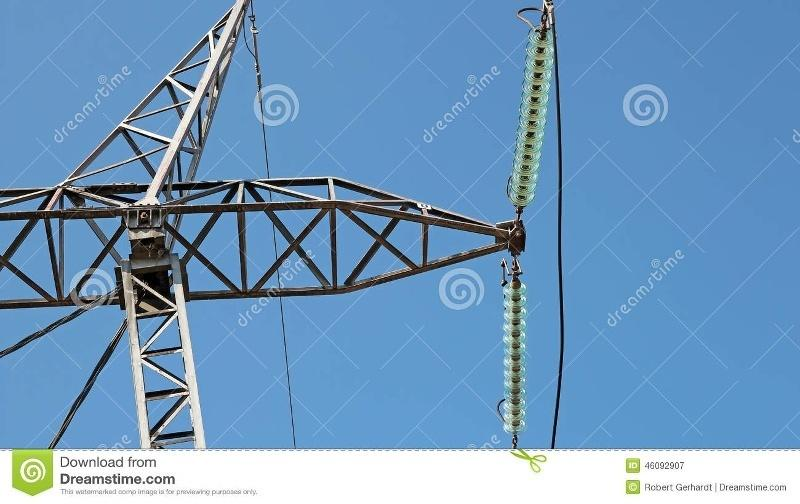power_tower: (3, 5, 516, 442)
